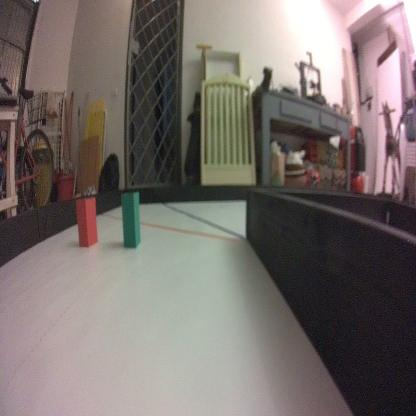green: (119, 189, 141, 250)
red: (76, 193, 98, 252)
